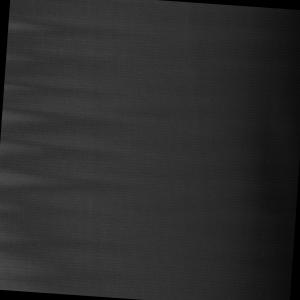Wrinkle: (1, 1, 152, 300), (188, 5, 300, 300)
